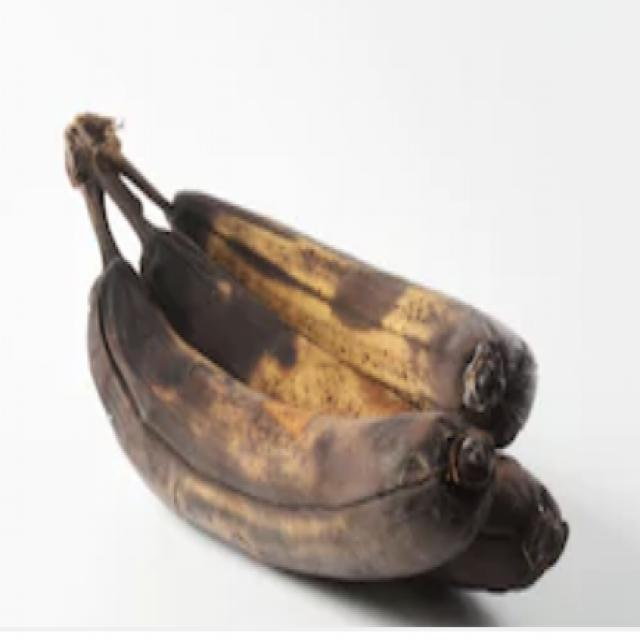rotten-banana: (72, 242, 488, 572), (156, 207, 572, 488), (159, 172, 535, 414)
